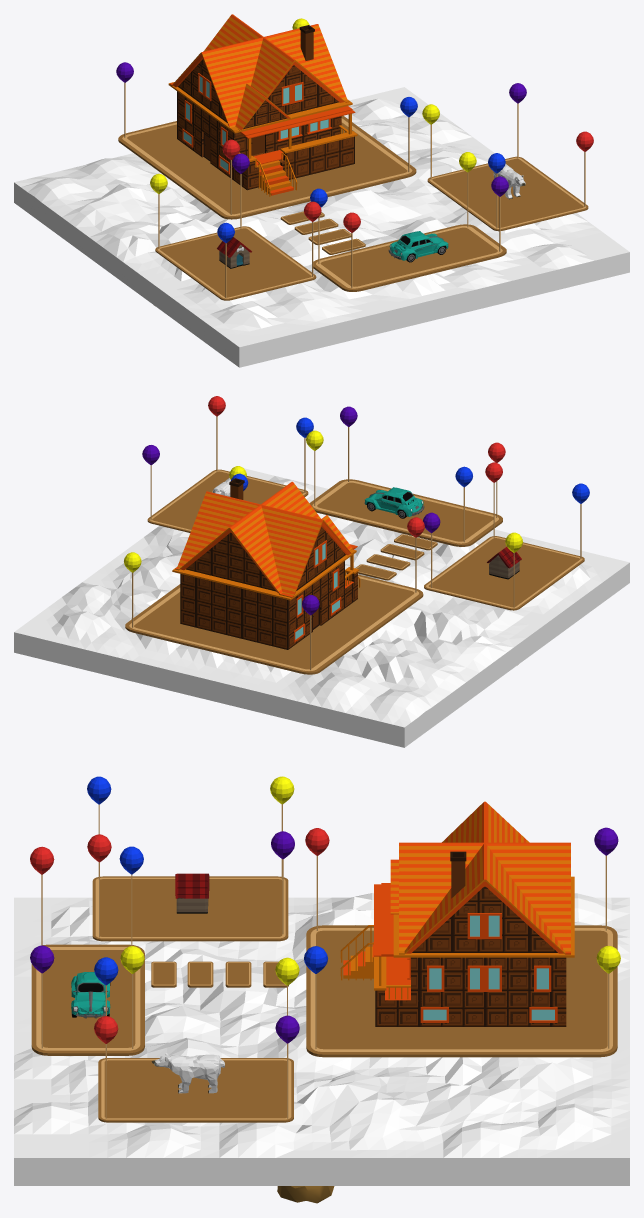
3 views of the same model, one above another, from view 1: azimuth 30°, elevation 25°; view 2: azimuth 150°, elevation 25°; view 3: azimuth 270°, elevation 25° (orthographic). The views are drawn at different scales.
Parts seen in each view (by area): view 1: Cube.013, Cube, VEHICLES_VOLKSWAGEN, OBJRANDOM_DOGHOUSE, ANIMAL_OSO_POLAR; view 2: Cube.013, Cube, VEHICLES_VOLKSWAGEN, OBJRANDOM_DOGHOUSE; view 3: Cube.013, Cube, ANIMAL_OSO_POLAR, VEHICLES_VOLKSWAGEN, OBJRANDOM_DOGHOUSE, UNDERGROUND_T_REX_BONES.
Part boxes in pixels (bbox=[...]): Cube.013: bbox=[14, 18, 629, 367]; Cube: bbox=[168, 14, 357, 196]; VEHICLES_VOLKSWAGEN: bbox=[388, 231, 448, 262]; OBJRANDOM_DOGHOUSE: bbox=[217, 237, 251, 268]; ANIMAL_OSO_POLAR: bbox=[493, 163, 525, 199]; Cube.013: bbox=[14, 396, 629, 747]; Cube: bbox=[172, 478, 360, 649]; VEHICLES_VOLKSWAGEN: bbox=[364, 487, 424, 518]; OBJRANDOM_DOGHOUSE: bbox=[487, 547, 521, 579]; Cube.013: bbox=[14, 776, 629, 1185]; Cube: bbox=[340, 801, 574, 1026]; ANIMAL_OSO_POLAR: bbox=[151, 1052, 224, 1093]; VEHICLES_VOLKSWAGEN: bbox=[71, 972, 110, 1018]; OBJRANDOM_DOGHOUSE: bbox=[175, 873, 209, 913]; UNDERGROUND_T_REX_BONES: bbox=[277, 1186, 334, 1203].
Size of the model in its own units: 4000 by 1801 by 4000.
Materials: 35 (2 with a texture image).
